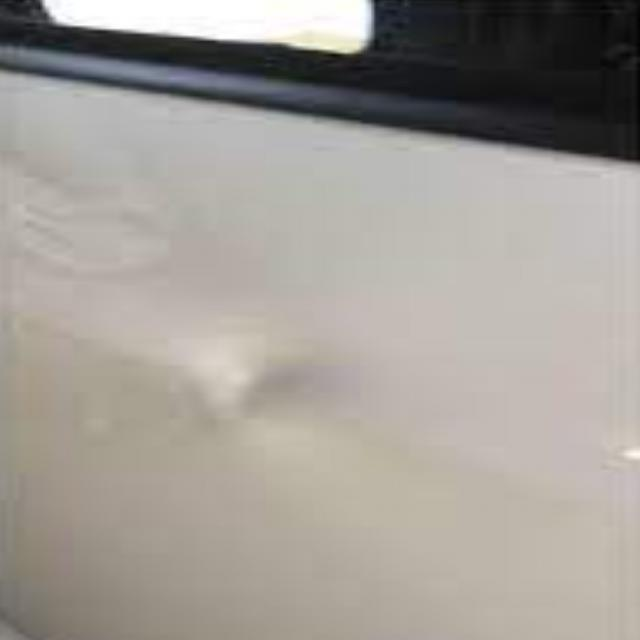dents: (181, 339, 379, 463)
